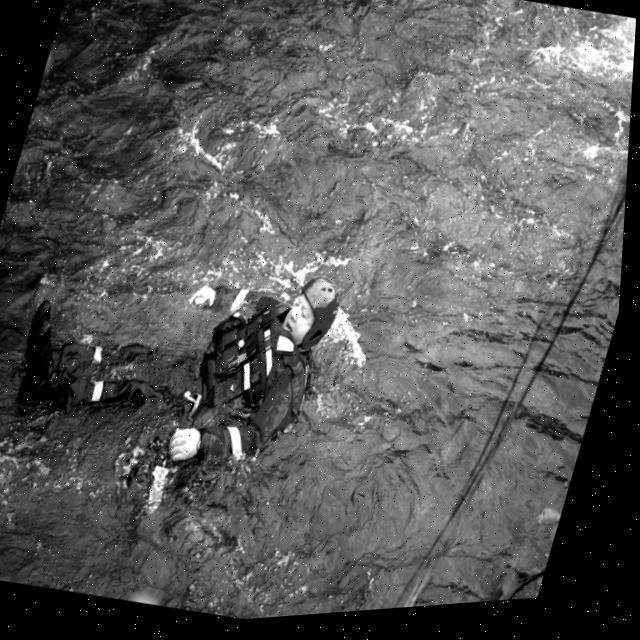rescuer: (0, 206, 353, 514)
